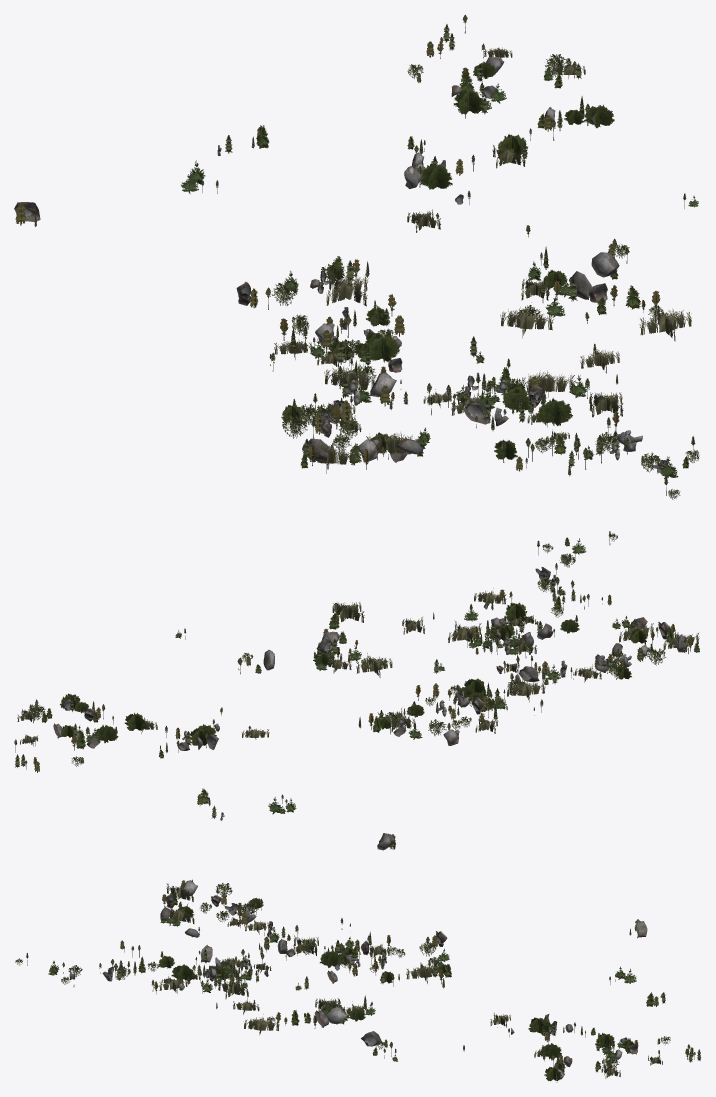
Rendered from forest-trees-kit.glb.
3 renders of one model, top to bottom at view 1: azimuth 30°, elevation 25°; view 2: azimuth 150°, elevation 25°; view 3: azimuth 270°, elevation 25°, orthographic. The views are drawn at different scales.
Bounding box in the file's own units: 367 × 41.24 × 553.
2 materials, 2 textured.
